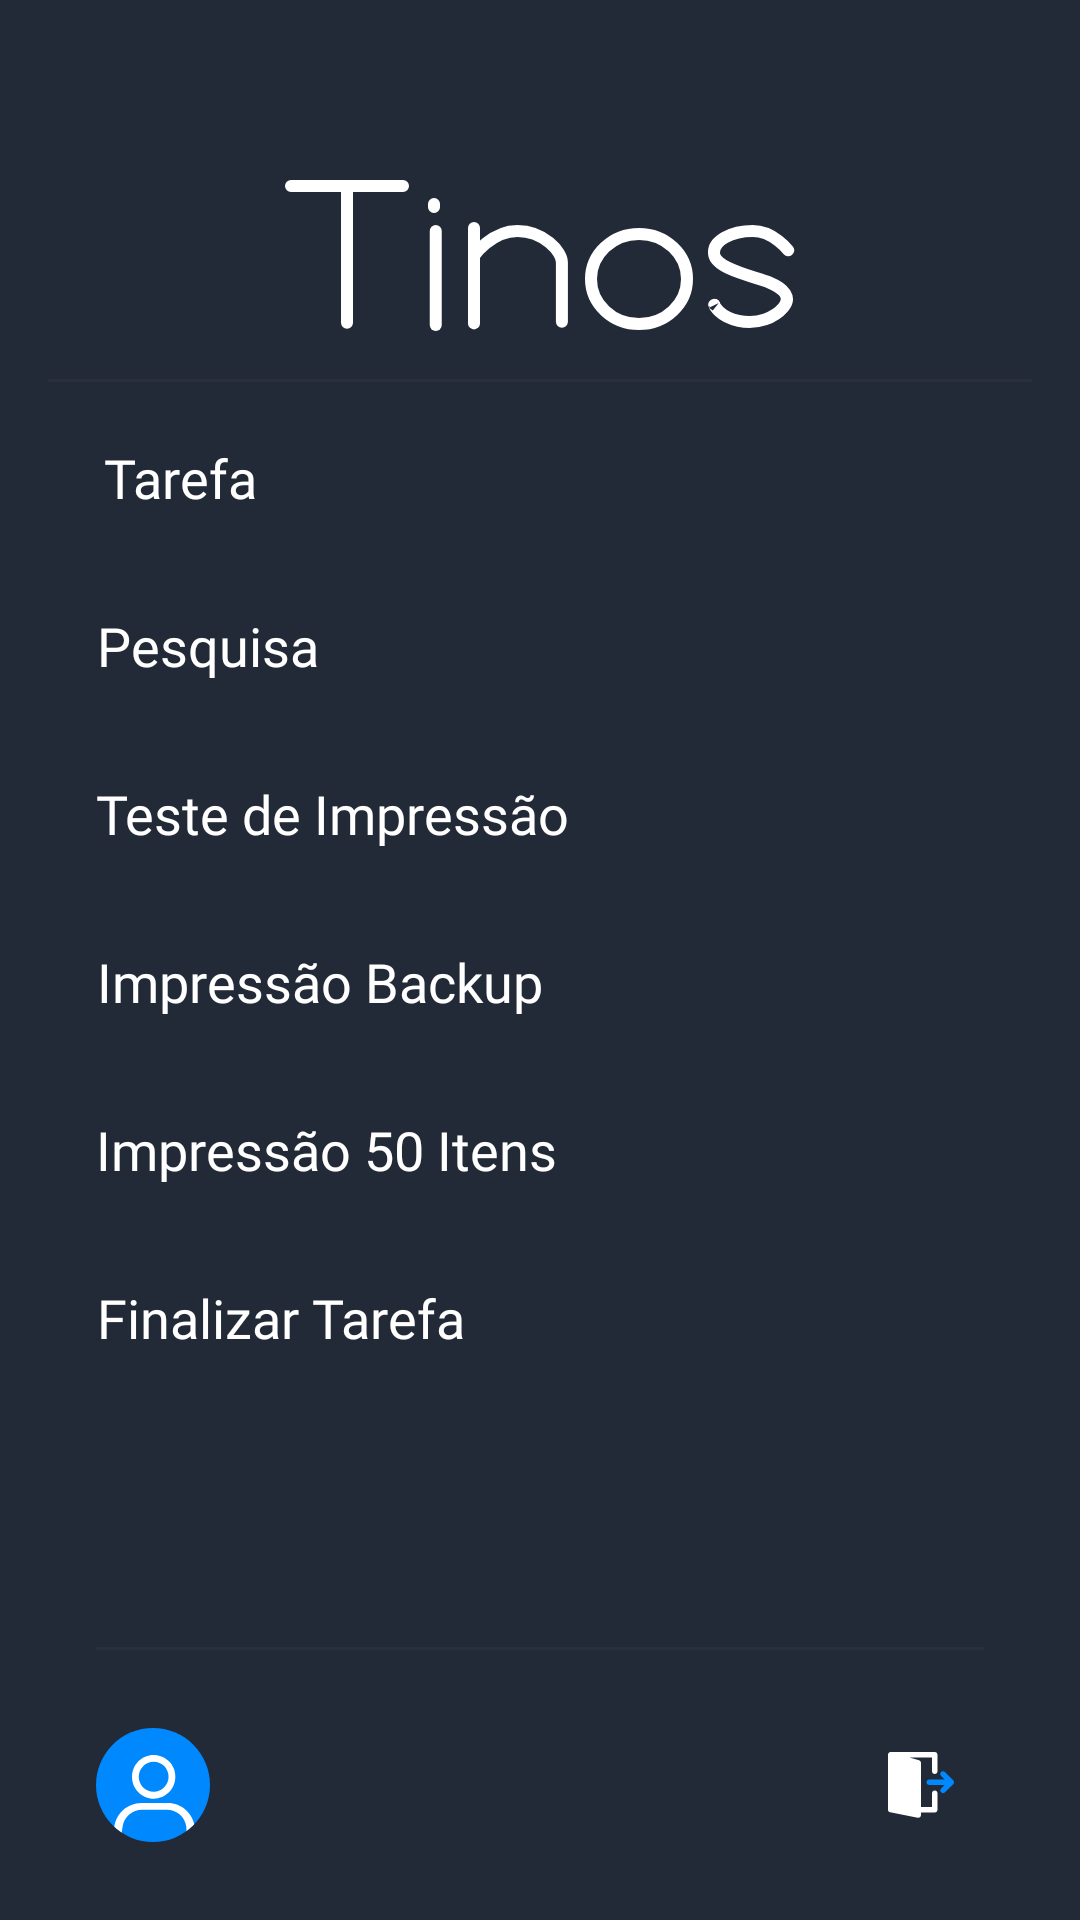

Icon click points for this 1080x1920 phone screenshot, format point (x, y):
profile menu: point (153, 1785)
sair: point (921, 1785)
